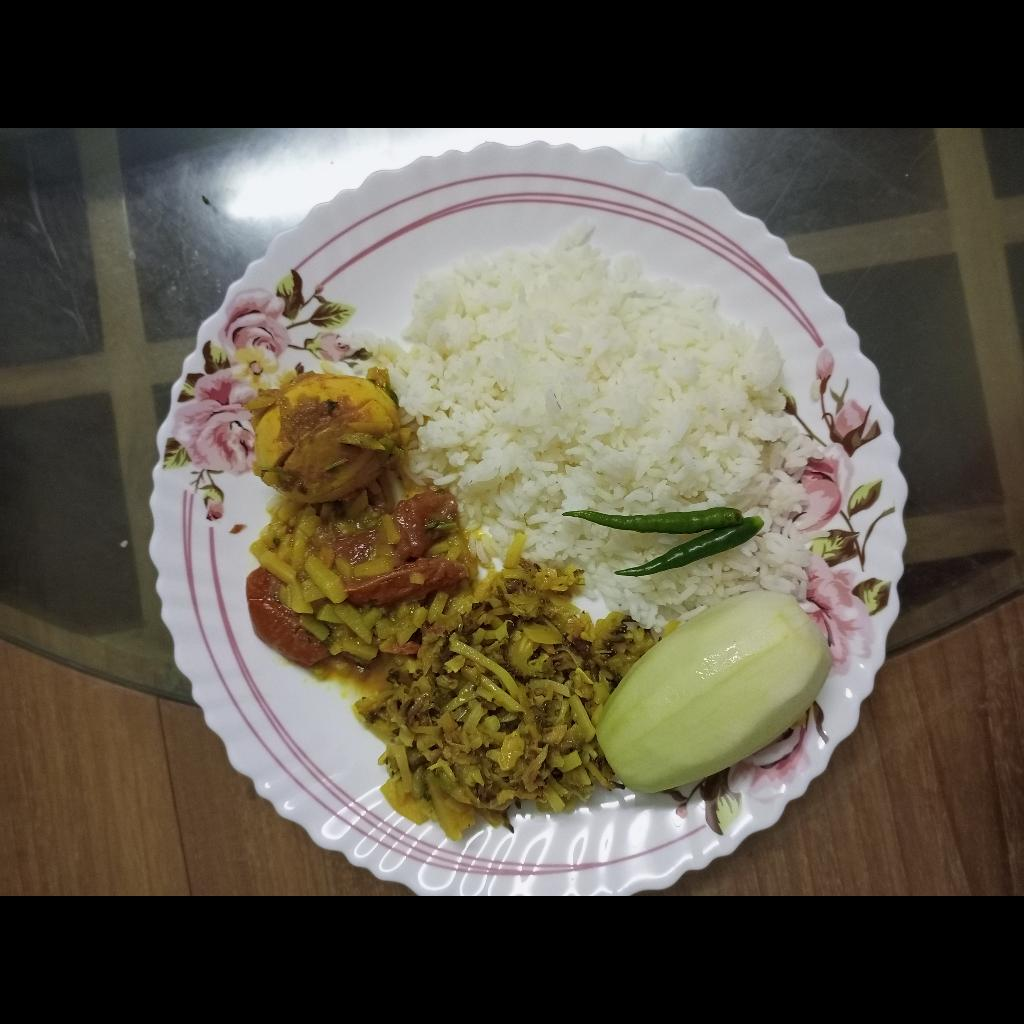cucumber: (593, 589, 836, 799)
egg-boiled: (246, 374, 404, 510)
khichuri: (353, 526, 651, 841)
potato: (249, 472, 499, 681)
rice: (380, 218, 825, 638)
